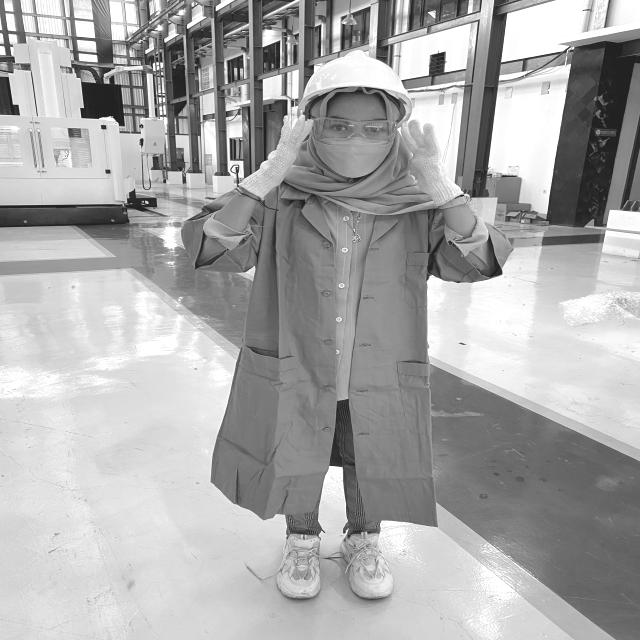face_mask: (309, 114, 394, 182)
glasses: (305, 112, 403, 144)
hand_glove: (235, 114, 322, 199), (386, 116, 456, 201)
head_helmet: (297, 51, 416, 111)
person: (178, 50, 519, 617)
shoes: (331, 524, 403, 605), (266, 526, 333, 608)
